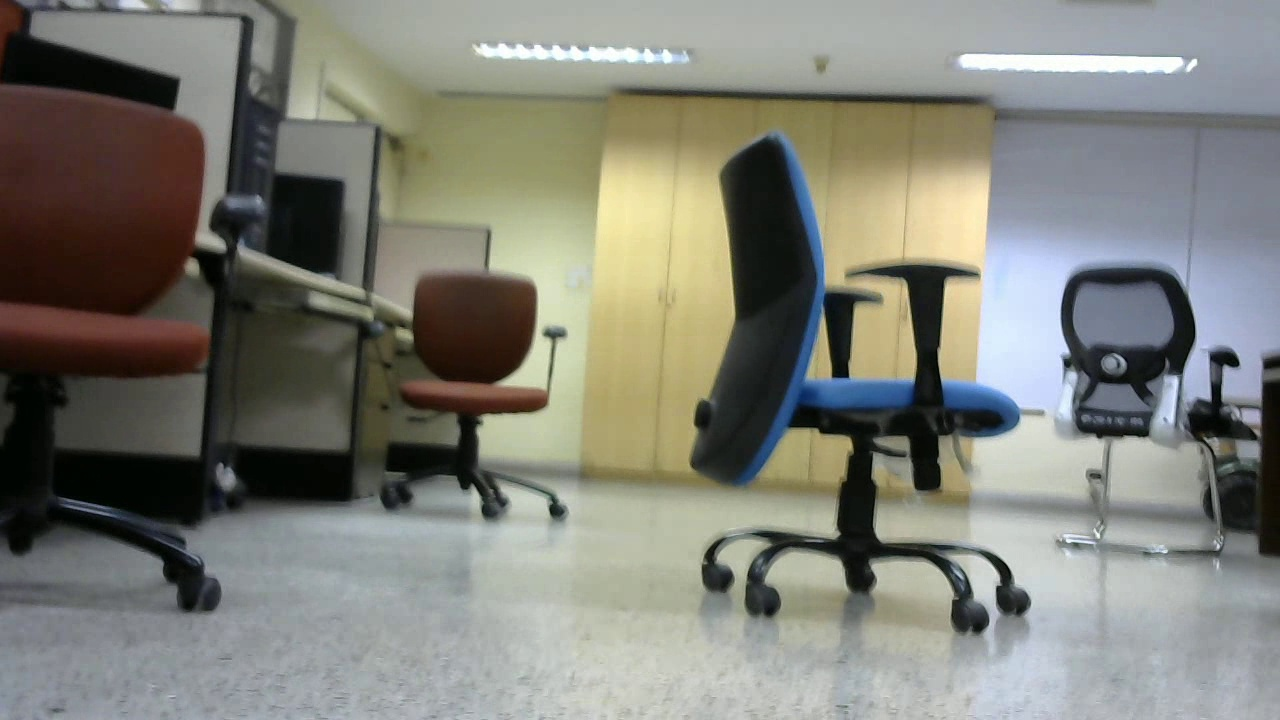chair: (698, 133, 1030, 634), (2, 77, 225, 612), (1036, 240, 1231, 568), (385, 269, 570, 519)
